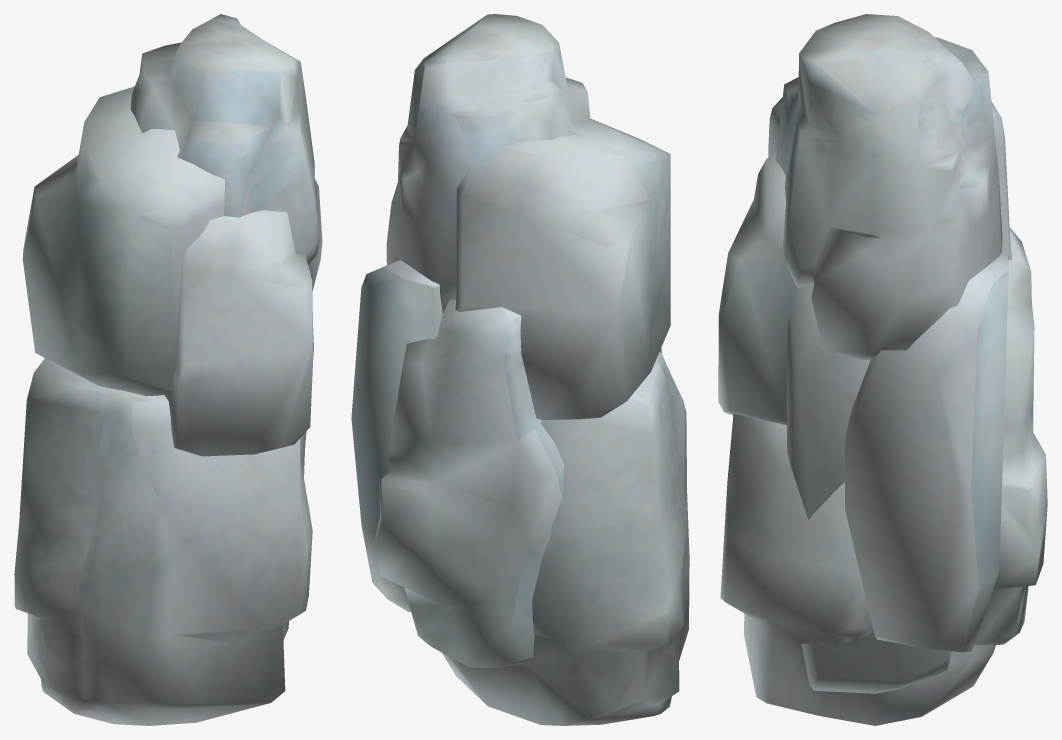
The model's file is P_RockSpire_RockClumpB12.obj.
3 renders of one model, left to right at view 1: azimuth 30°, elevation 25°; view 2: azimuth 150°, elevation 25°; view 3: azimuth 270°, elevation 25°, orthographic. The views are drawn at different scales.
Bounding box in the file's own units: 15.94 × 33.04 × 14.26.
